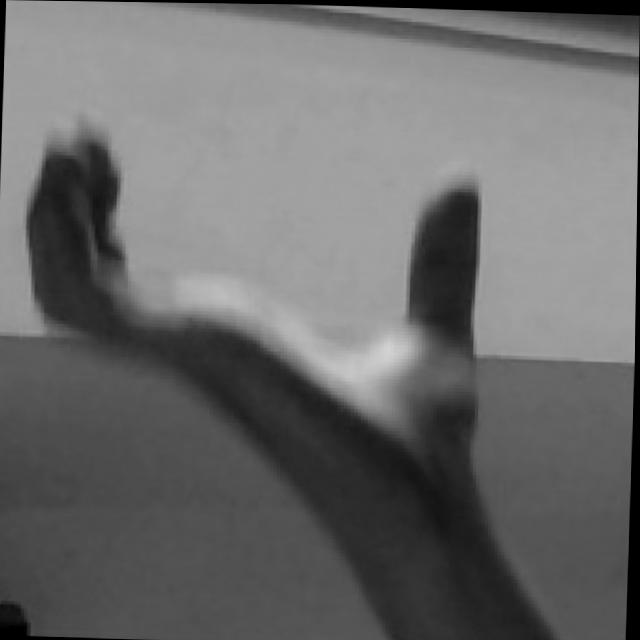space: (19, 116, 486, 470)
